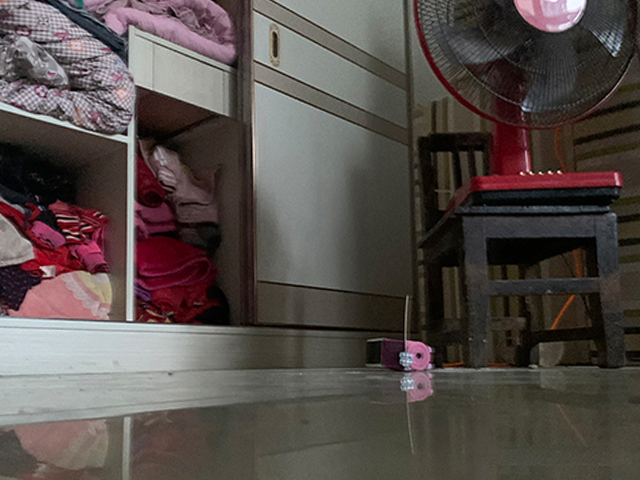cabinet: (1, 1, 410, 376)
stool: (418, 131, 627, 373)
